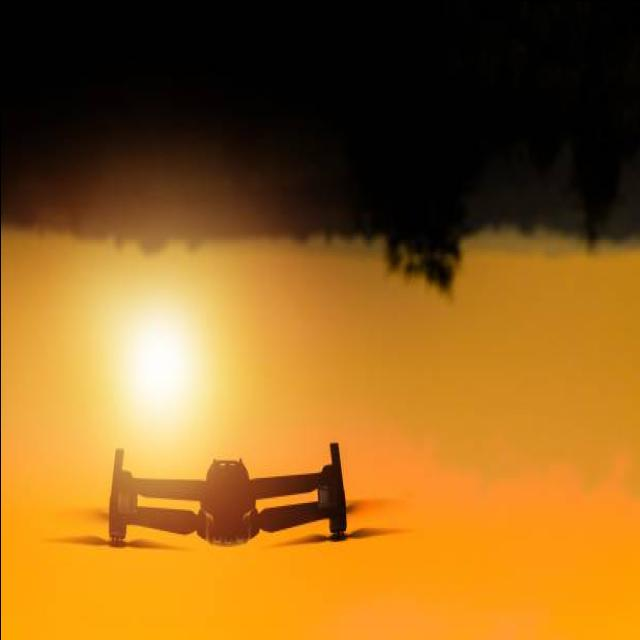drone: (43, 441, 412, 554)
